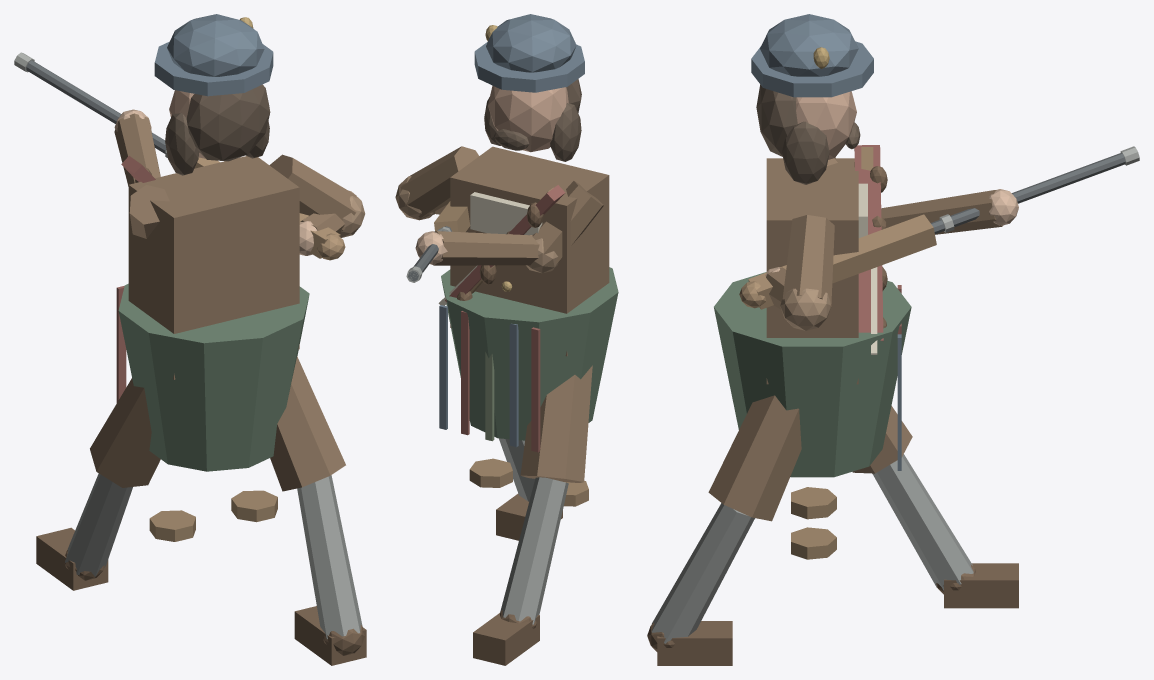
File: jacobite_highlander_musket_advancing.glb
3 views of the same model, side by side, from view 1: azimuth 30°, elevation 25°; view 2: azimuth 150°, elevation 25°; view 3: azimuth 270°, elevation 25° (orthographic). The views are drawn at different scales.
Visible parts, largest first — view 1: brown, tartan_g, grey, blue, hair, leather, leather_lt, iron, tartan_r, wood_lt, skin_light, brown_lt; view 2: brown, tartan_g, blue, grey, leather, skin, tartan_r, hair, tartan_b, linen, leather_lt, brown_lt (+4 smaller); view 3: brown, tartan_g, grey, blue, leather, hair, wood_lt, leather_lt, tartan_r, skin, iron, brown_lt (+2 smaller).
Part boxes in pixels (x1,y1,x2,y2): brown: [90, 113, 356, 491]; tartan_g: [118, 283, 309, 471]; grey: [65, 473, 362, 639]; blue: [154, 14, 273, 96]; hair: [165, 84, 270, 175]; leather: [36, 167, 366, 665]; leather_lt: [134, 159, 277, 541]; iron: [26, 60, 166, 153]; tartan_r: [116, 156, 155, 402]; wood_lt: [194, 157, 345, 260]; skin_light: [114, 109, 317, 255]; brown_lt: [340, 191, 365, 237]; brown: [400, 146, 609, 482]; tartan_g: [441, 267, 618, 440]; blue: [474, 14, 584, 92]; grey: [499, 438, 568, 624]; leather: [457, 202, 562, 665]; skin: [488, 85, 568, 152]; tartan_r: [445, 185, 565, 452]; hair: [484, 79, 581, 161]; tartan_b: [439, 305, 518, 447]; linen: [438, 192, 542, 305]; leather_lt: [469, 187, 588, 506]; brown_lt: [395, 176, 558, 273]; brown: [708, 157, 1003, 521]; tartan_g: [714, 272, 911, 477]; grey: [651, 454, 973, 643]; blue: [751, 14, 873, 97]; leather: [647, 166, 1018, 665]; hair: [756, 84, 860, 184]; wood_lt: [739, 214, 936, 309]; leather_lt: [791, 147, 873, 559]; tartan_r: [854, 145, 901, 341]; skin: [796, 91, 856, 159]; iron: [930, 153, 1125, 234]; brown_lt: [780, 288, 830, 330].
Bounding box in the file's own units: 0.7093 × 1.75 × 1.28.
